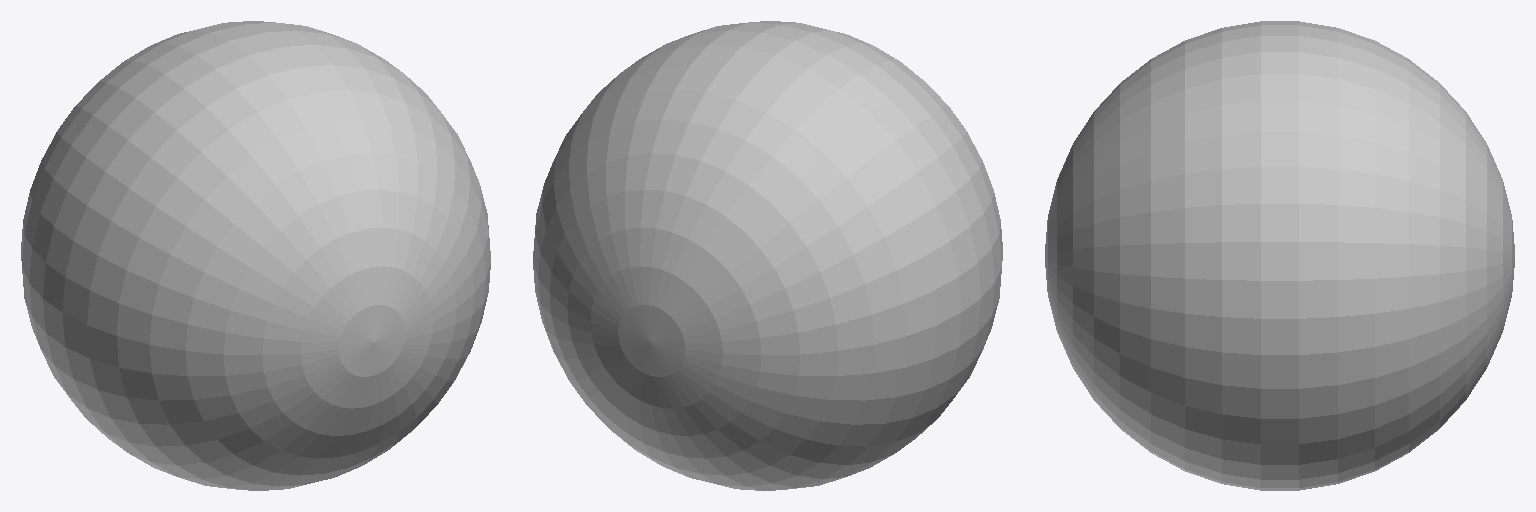
Rendered from ball.obj.
The picture shows the model from 3 angles: view 1: azimuth 30°, elevation 25°; view 2: azimuth 150°, elevation 25°; view 3: azimuth 270°, elevation 25°; orthographic projection.
Parts seen in each view (by area): view 1: Body1; view 2: Body1; view 3: Body1.
Part boxes in pixels (bbox=[...]): Body1: bbox=[21, 21, 490, 490]; Body1: bbox=[533, 21, 1002, 490]; Body1: bbox=[1045, 21, 1514, 490].
Size of the model in its own units: 199 by 199 by 200.